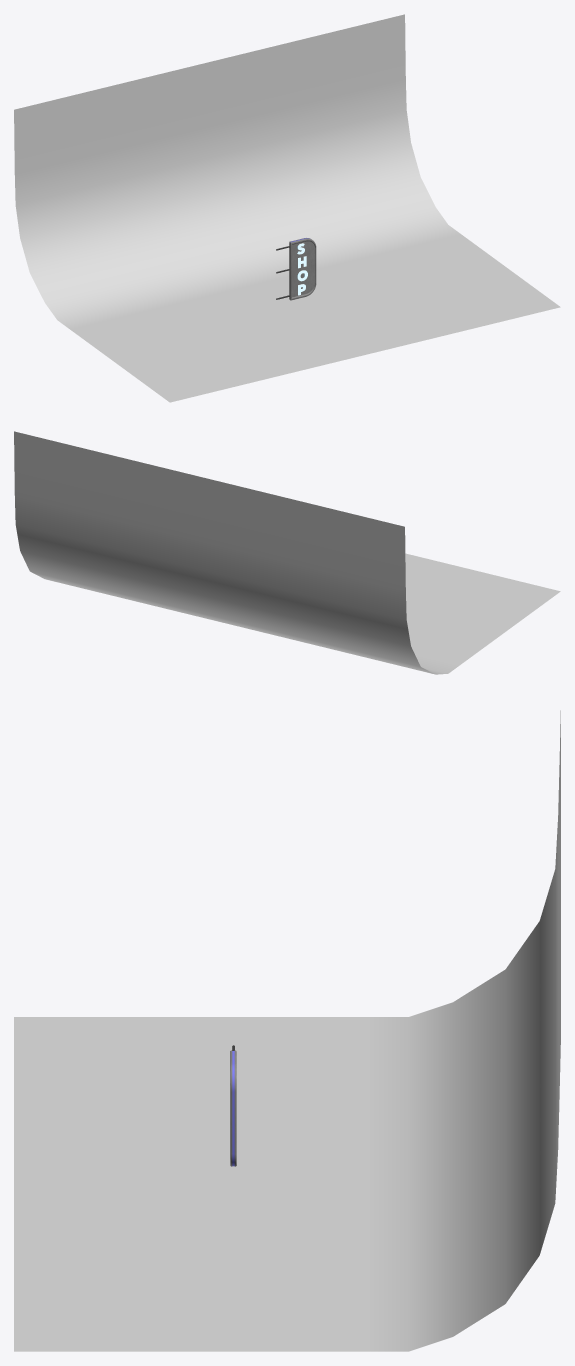
The model's file is shop_sign.glb.
The picture shows the model from 3 angles, top to bottom: view 1: azimuth 30°, elevation 25°; view 2: azimuth 150°, elevation 25°; view 3: azimuth 270°, elevation 25°; orthographic projection. The views are drawn at different scales.
Visible parts, largest first — view 1: Platform 1_5, Cube_0; view 2: Platform 1_5; view 3: Platform 1_5, Cube_0.
Boxes of the visible parts, x1=… form: Platform 1_5: x1=14, y1=14, x2=560, y2=402; Cube_0: x1=289, y1=238, x2=316, y2=300; Platform 1_5: x1=14, y1=431, x2=560, y2=674; Platform 1_5: x1=14, y1=710, x2=560, y2=1351; Cube_0: x1=230, y1=1050, x2=236, y2=1166.
Size of the model in its own units: 14.16 by 6.18 by 9.78.
Materials: 5 (4 with a texture image).
